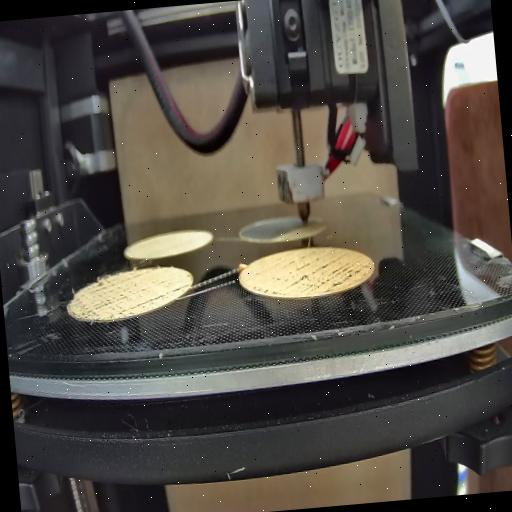under_extrusion: (251, 257, 374, 299), (70, 272, 138, 324), (138, 280, 194, 310)
